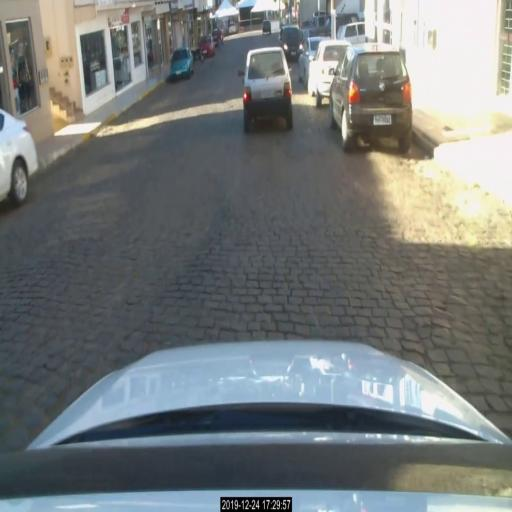Pothole: (446, 284, 504, 344)
